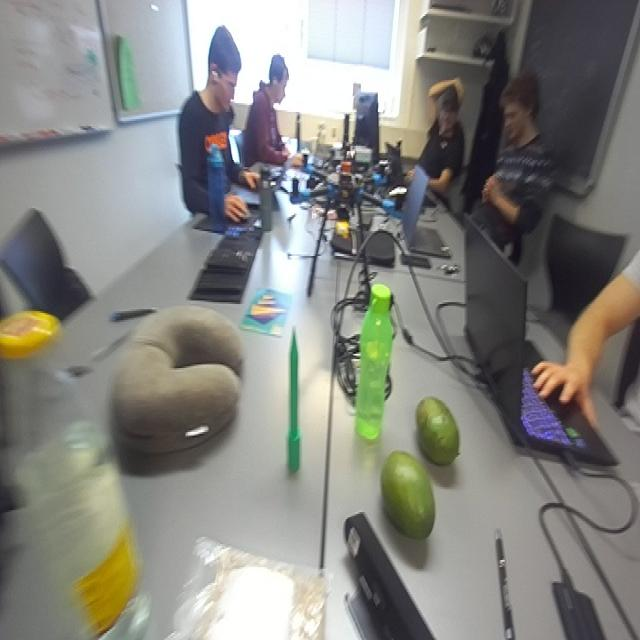probe: (286, 327, 300, 473)
